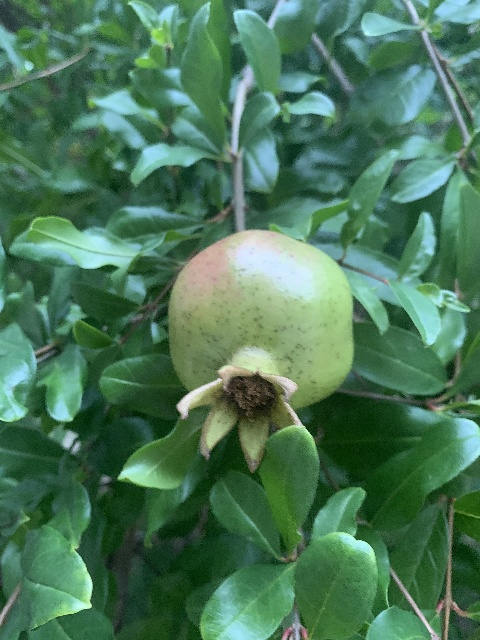mid-growth: (166, 229, 354, 473)
